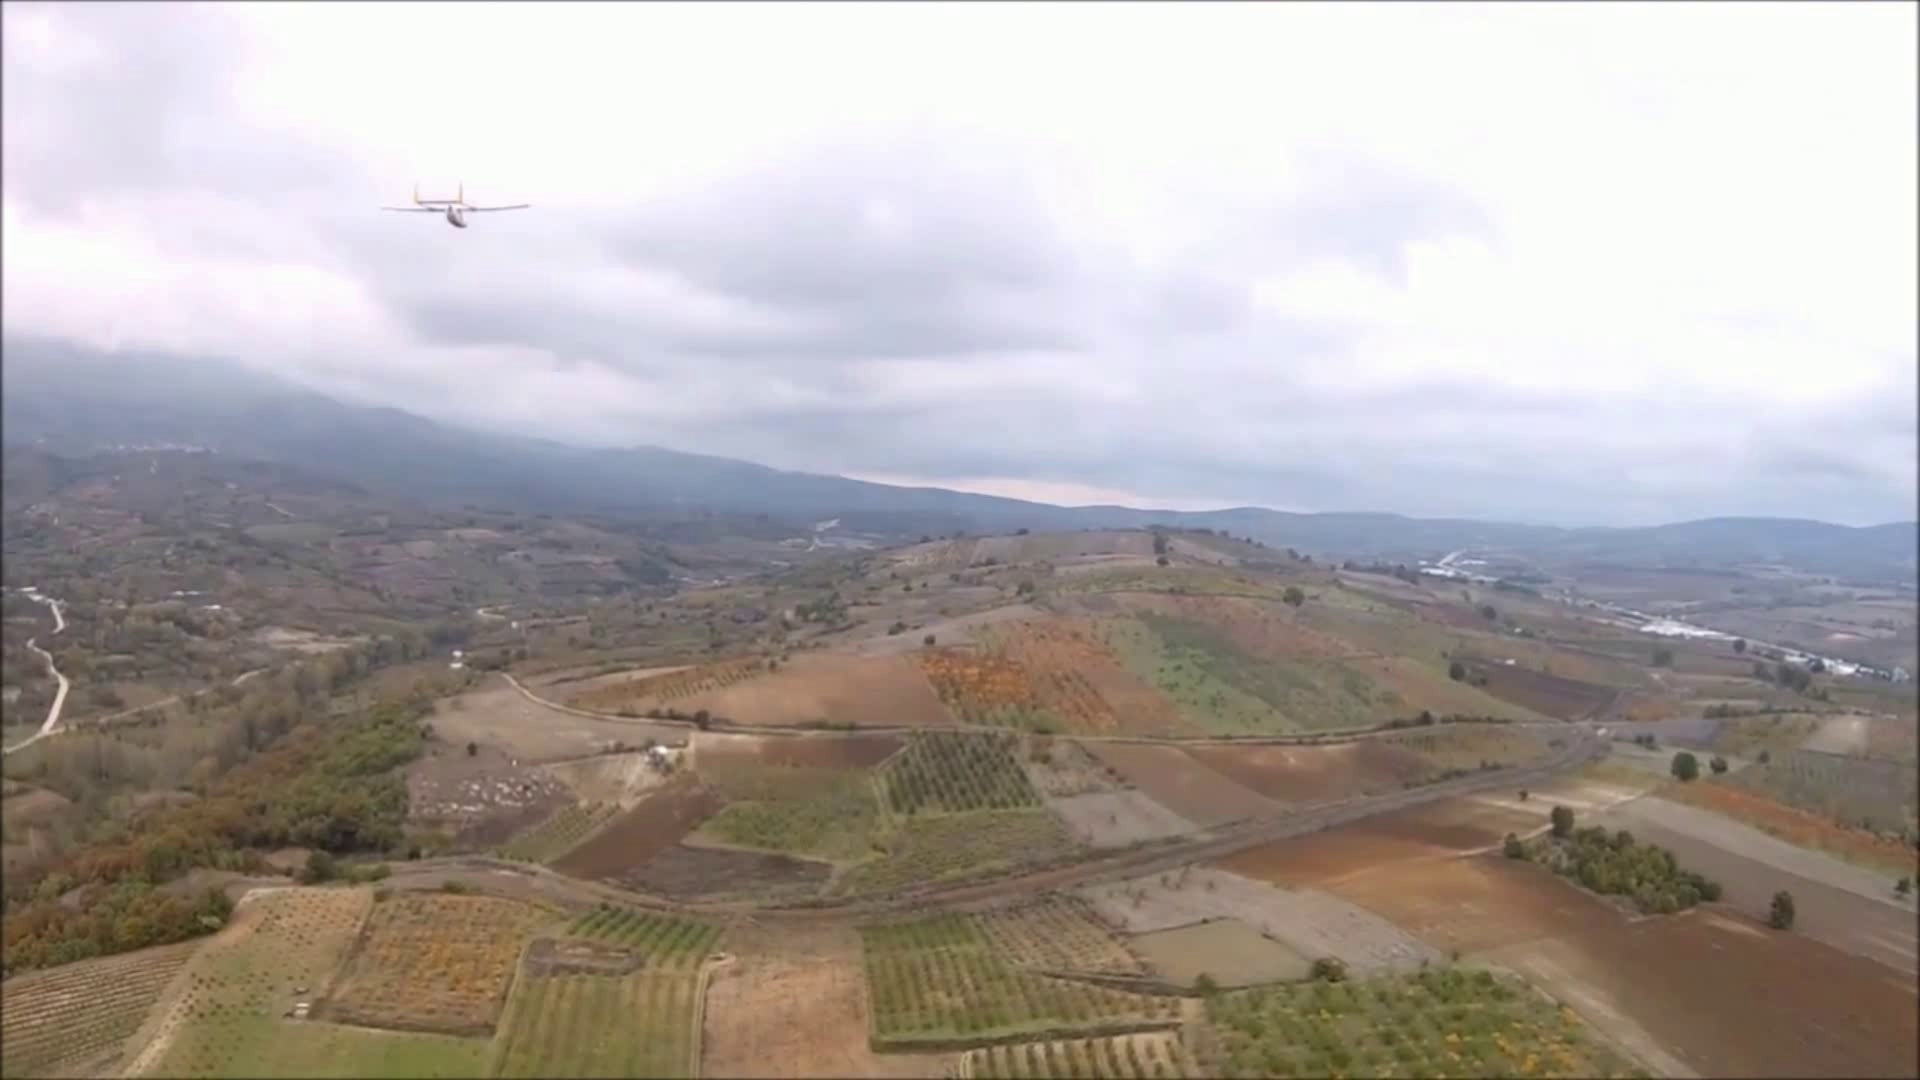airplane: (382, 179, 533, 229)
